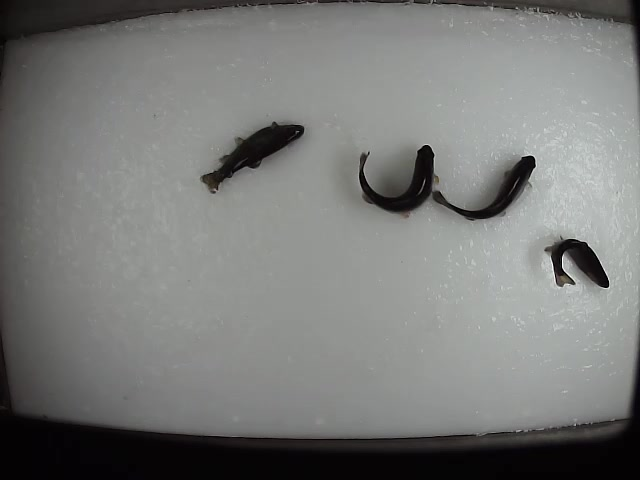fish: (196, 120, 306, 198), (430, 152, 538, 224), (356, 141, 440, 221), (541, 233, 610, 287)
